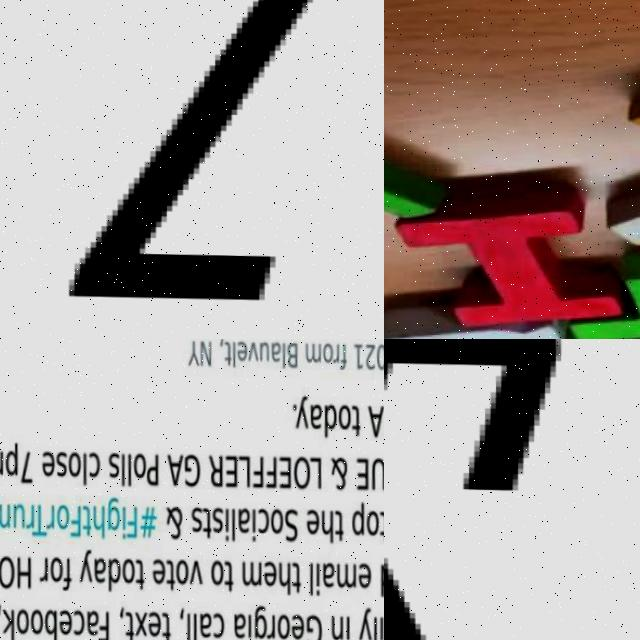0: (372, 344, 384, 371)
1: (351, 343, 361, 371)
2: (362, 345, 374, 371)
7: (16, 450, 31, 482)
F: (531, 265, 640, 339)
I: (388, 173, 622, 327)
Q: (384, 294, 579, 339)
S: (384, 339, 586, 640)
Y: (384, 70, 436, 241)
Z: (46, 0, 384, 319)
